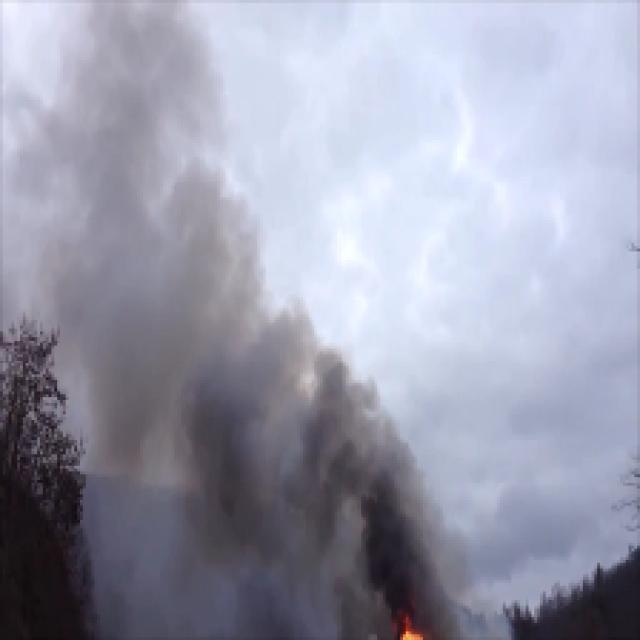Smoke: (216, 391, 354, 520), (360, 473, 426, 627)
